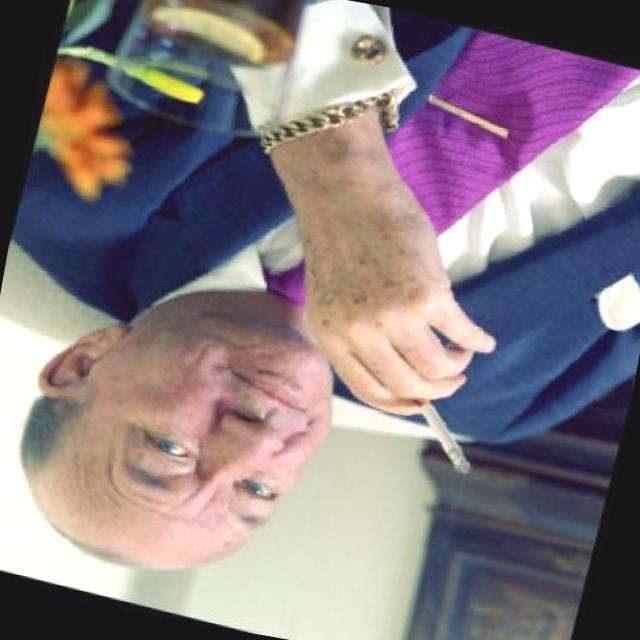smoke: (392, 391, 490, 479)
